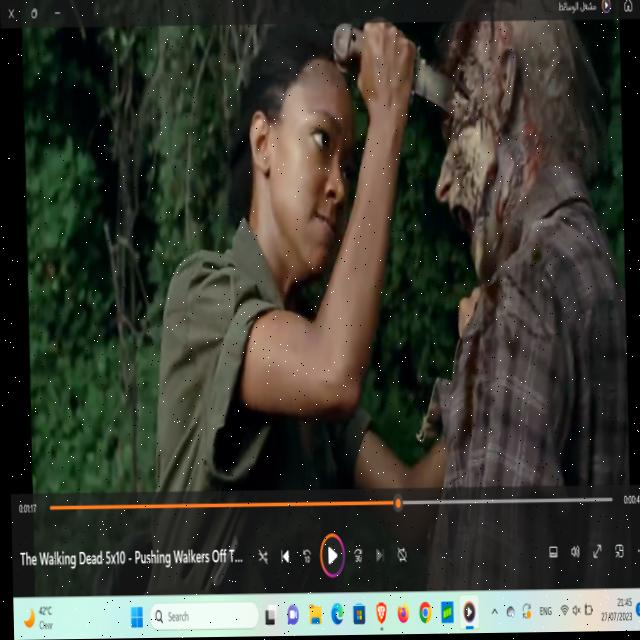Zombie: (445, 12, 549, 261)
human: (248, 26, 349, 286)
